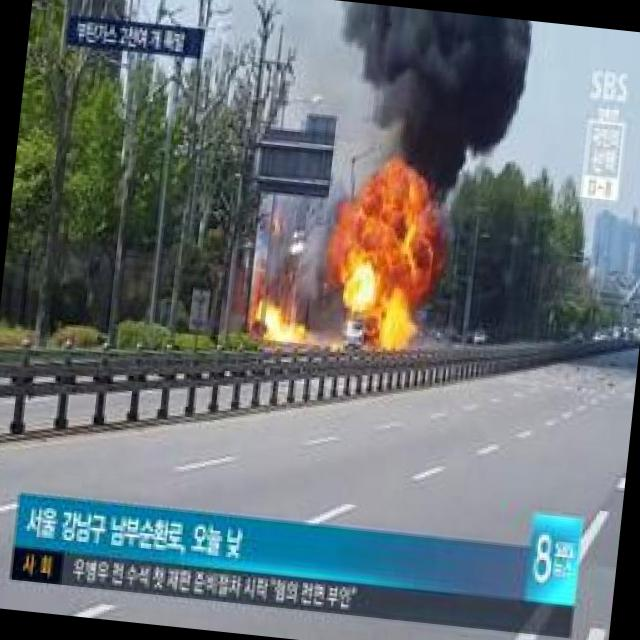Fire: (325, 199, 448, 320), (354, 167, 446, 210), (249, 303, 306, 347), (369, 316, 422, 352)
Smoke: (328, 1, 535, 175)
